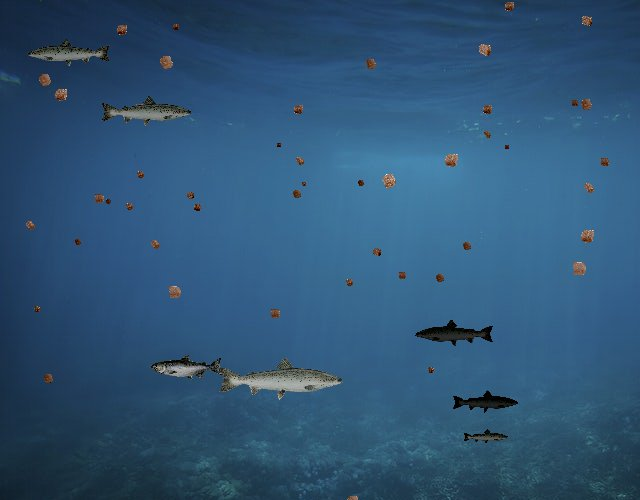Fish: (216, 355, 345, 401), (99, 95, 193, 129), (26, 37, 112, 68), (414, 318, 495, 348), (151, 355, 224, 381), (451, 389, 519, 414), (462, 428, 509, 445)
Pellet: (437, 146, 466, 175), (573, 223, 601, 251), (471, 36, 498, 63), (574, 92, 598, 116), (288, 100, 309, 121), (457, 237, 476, 256), (341, 275, 358, 292), (30, 302, 44, 316)
